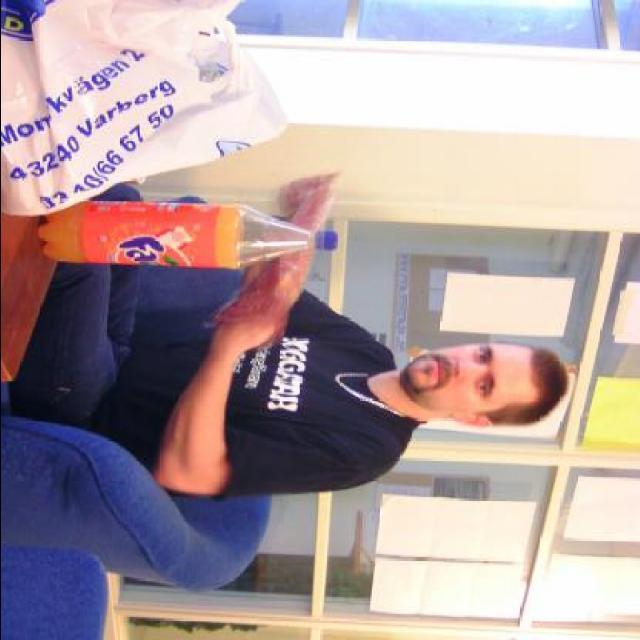Juice: (34, 200, 242, 268)
